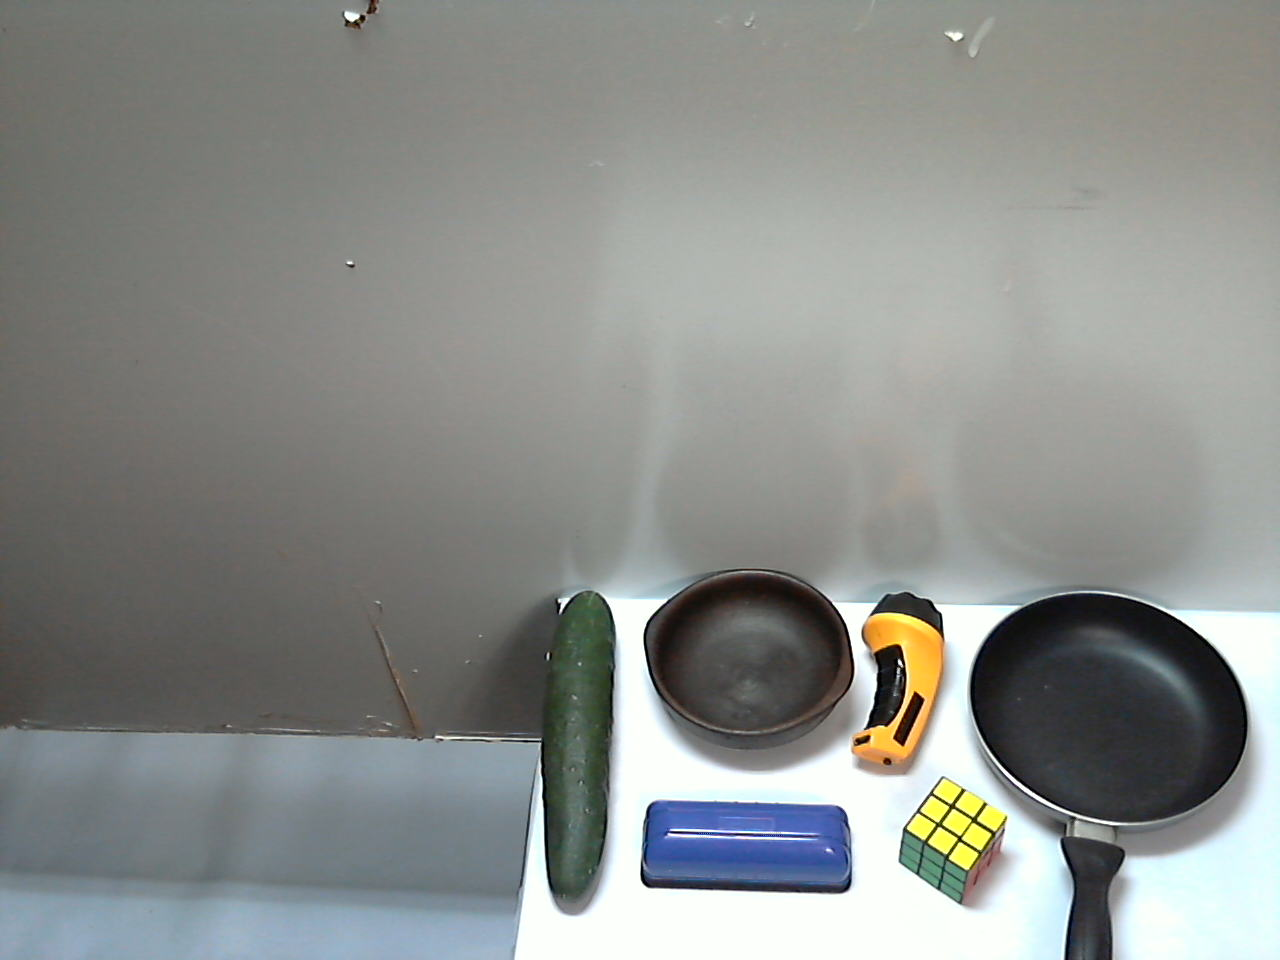cera: (660, 463, 816, 763)
colador: (823, 614, 1257, 960)
ketchup: (455, 675, 574, 842)
mostaza: (598, 739, 703, 892)
platano: (561, 769, 816, 960)
yogurt: (544, 456, 682, 750)
